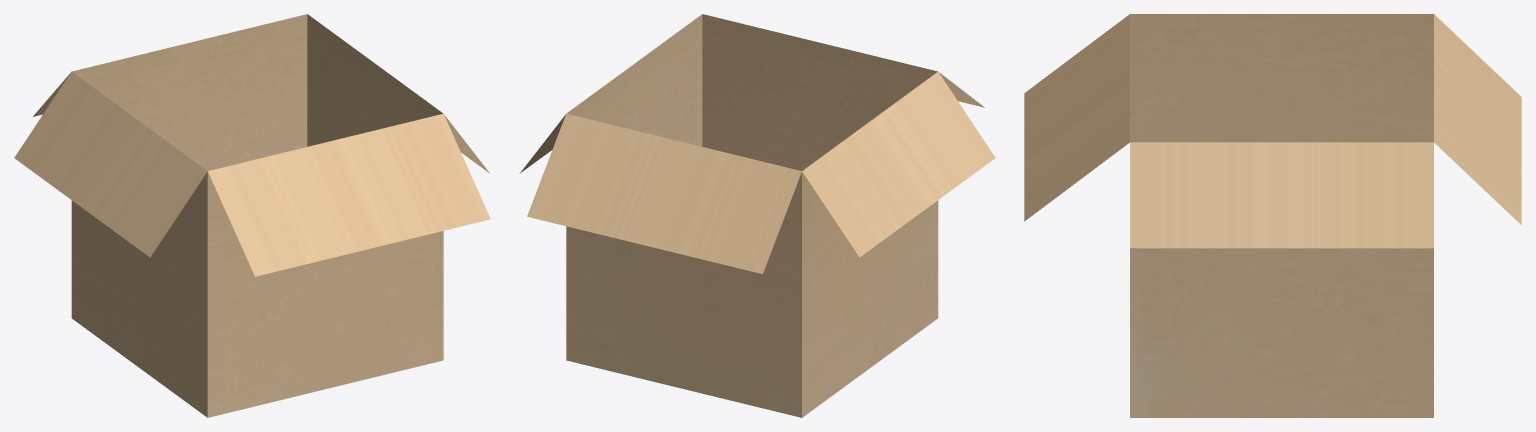
Rendered from kardus buka.fbx.
3 views of the same model, side by side, from view 1: azimuth 30°, elevation 25°; view 2: azimuth 150°, elevation 25°; view 3: azimuth 270°, elevation 25° (orthographic). The views are drawn at different scales.
Visible parts, largest first — view 1: Cube; view 2: Cube; view 3: Cube.
Boxes of the visible parts, x1=… form: Cube: x1=14, y1=14, x2=490, y2=417; Cube: x1=519, y1=14, x2=995, y2=417; Cube: x1=1024, y1=14, x2=1521, y2=417.
Bounding box in the file's own units: 291 × 202 × 330.
